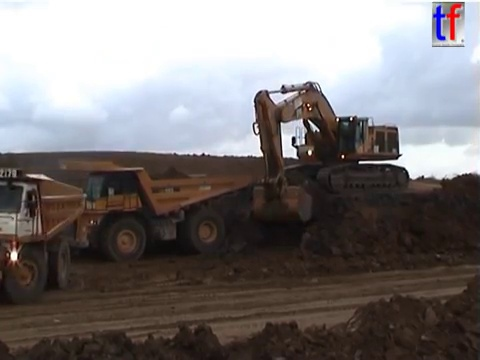excavator: (250, 80, 412, 224)
truck: (56, 158, 255, 262), (1, 166, 88, 305)
